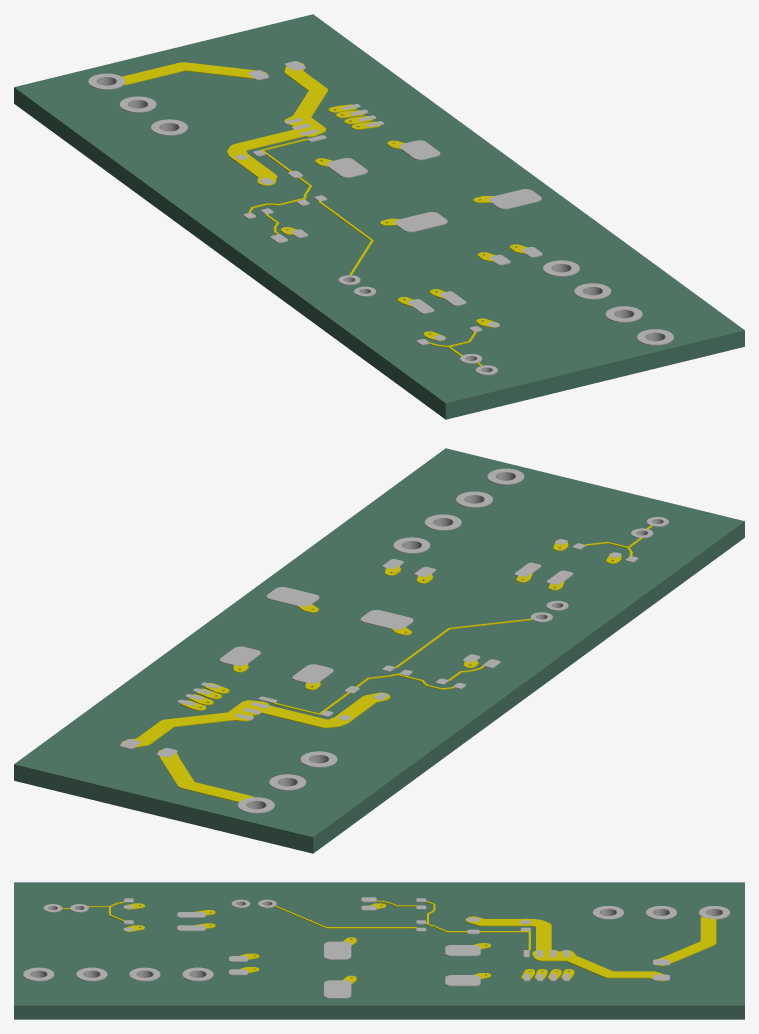
The model's file is PM2_with_components.glb.
The picture shows the model from 3 angles, top to bottom: view 1: azimuth 30°, elevation 25°; view 2: azimuth 150°, elevation 25°; view 3: azimuth 270°, elevation 25°; orthographic projection. The views are drawn at different scales.
Visible parts, largest first — view 1: =>[0:1:1:5], =>[0:1:1:3], =>[0:1:1:2]; view 2: =>[0:1:1:5], =>[0:1:1:3], =>[0:1:1:2]; view 3: =>[0:1:1:5], =>[0:1:1:3], =>[0:1:1:2].
Boxes of the visible parts, <box> form: =>[0:1:1:5]: <box>14,14,744,419</box>; =>[0:1:1:3]: <box>88,61,673,375</box>; =>[0:1:1:2]: <box>122,62,527,366</box>; =>[0:1:1:5]: <box>14,448,744,853</box>; =>[0:1:1:3]: <box>120,468,668,813</box>; =>[0:1:1:2]: <box>121,525,652,802</box>; =>[0:1:1:5]: <box>14,882,744,1019</box>; =>[0:1:1:3]: <box>23,897,730,998</box>; =>[0:1:1:2]: <box>62,900,716,984</box>.
Size of the model in its own units: 0.028 by 0.00162 by 0.07.
